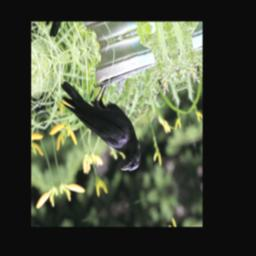Crow: (55, 60, 145, 190)
